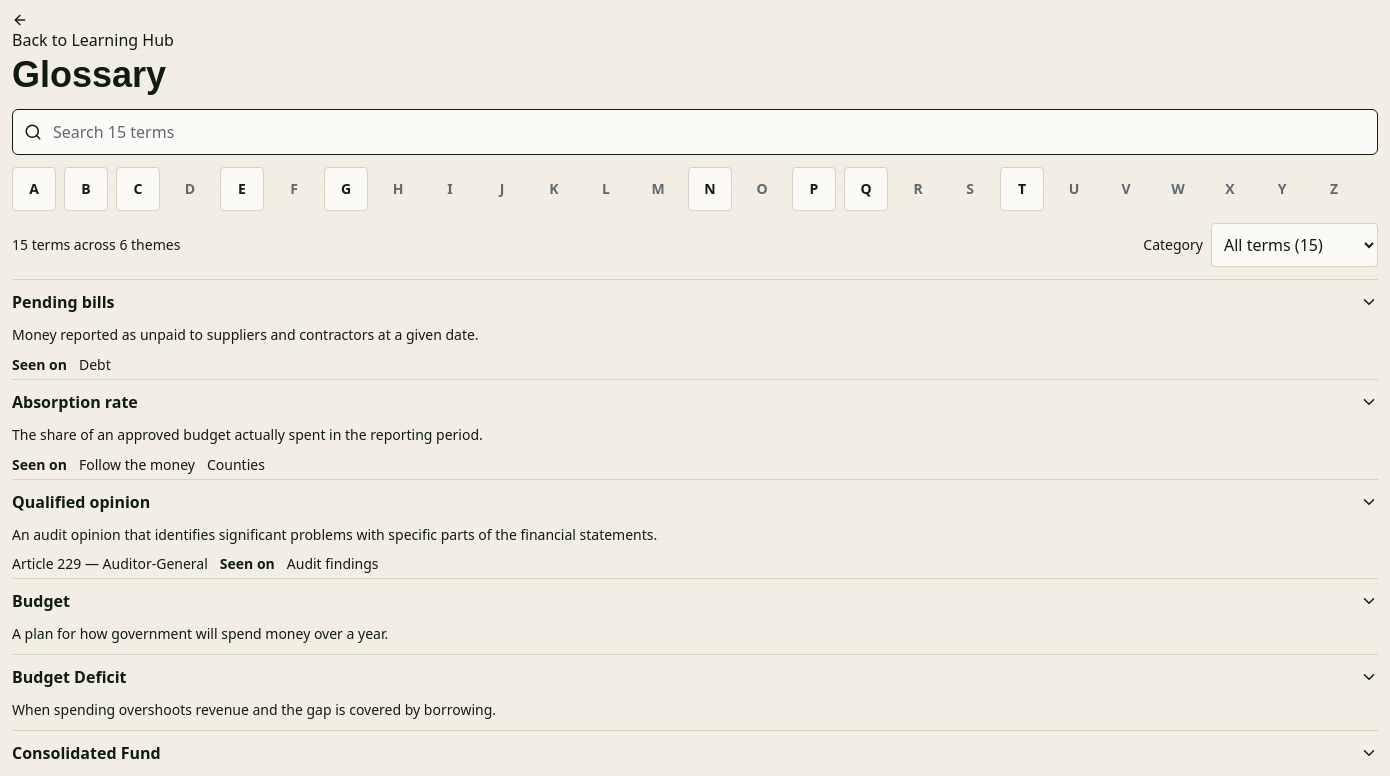
Test: keeps constitutional context separate from the definition source
Click the button "Qualified opinion".
click(81, 502)  # box 12,480 -> 1378,524
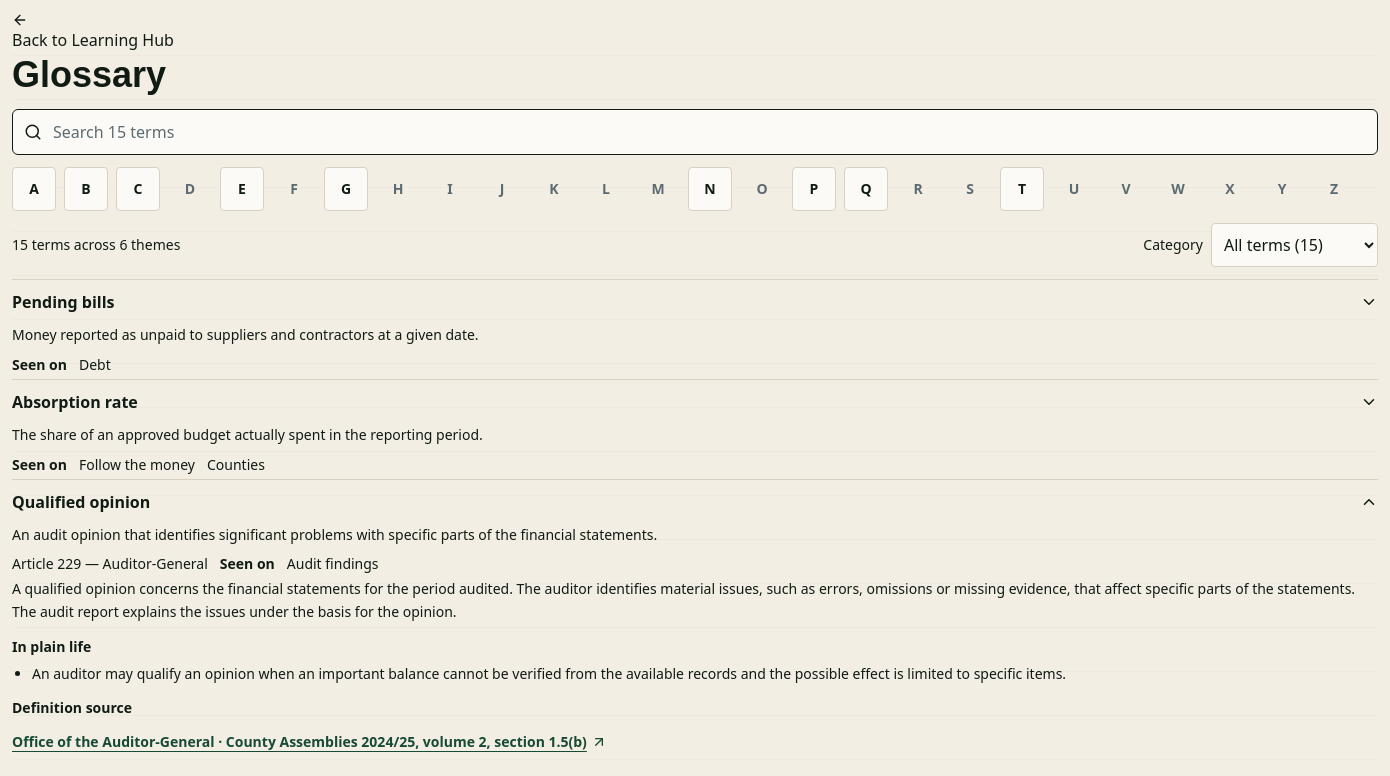
Check: the heading "Definition source" is shown, box 12,698 -> 132,717
